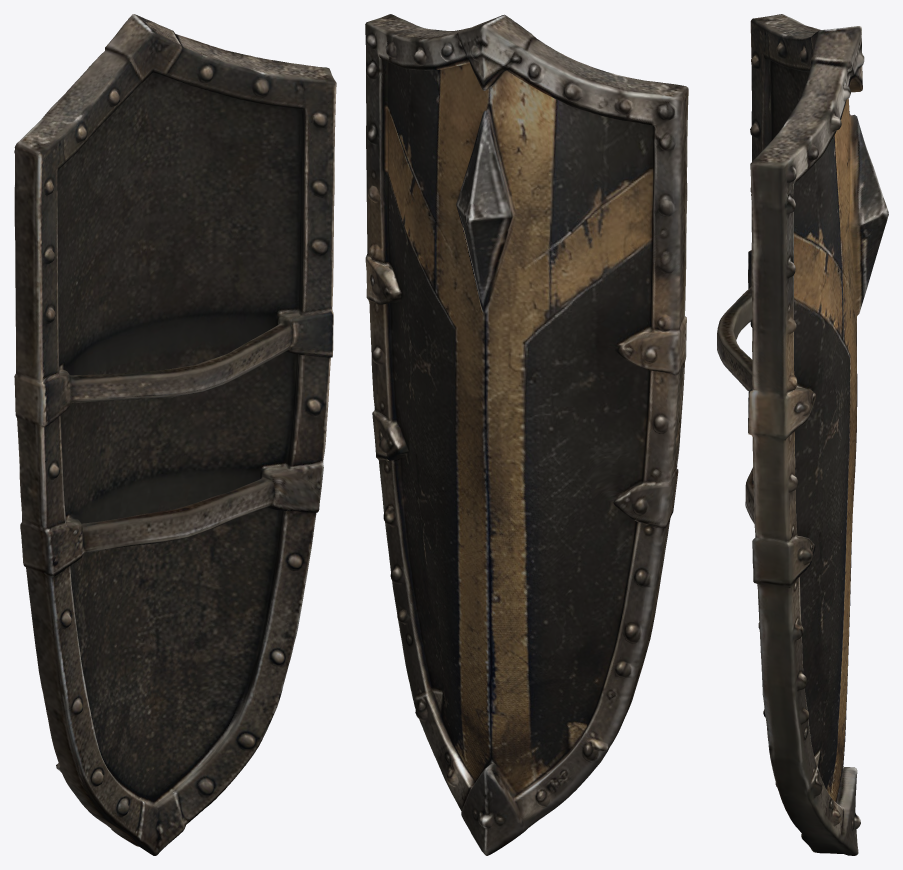
File: tower_gold_chevron.glb
3 renders of one model, left to right at view 1: azimuth 30°, elevation 25°; view 2: azimuth 150°, elevation 25°; view 3: azimuth 270°, elevation 25°, orthographic.
Parts seen in each view (by area): view 1: tower_gold_chevron; view 2: tower_gold_chevron; view 3: tower_gold_chevron.
Part boxes in pixels (x1=…): tower_gold_chevron: x1=14, y1=14, x2=336, y2=855; tower_gold_chevron: x1=365, y1=14, x2=688, y2=855; tower_gold_chevron: x1=717, y1=14, x2=888, y2=855.
Size of the model in its own units: 0.446 by 1.12 by 0.2104.
Materials: 1 (1 with a texture image).
